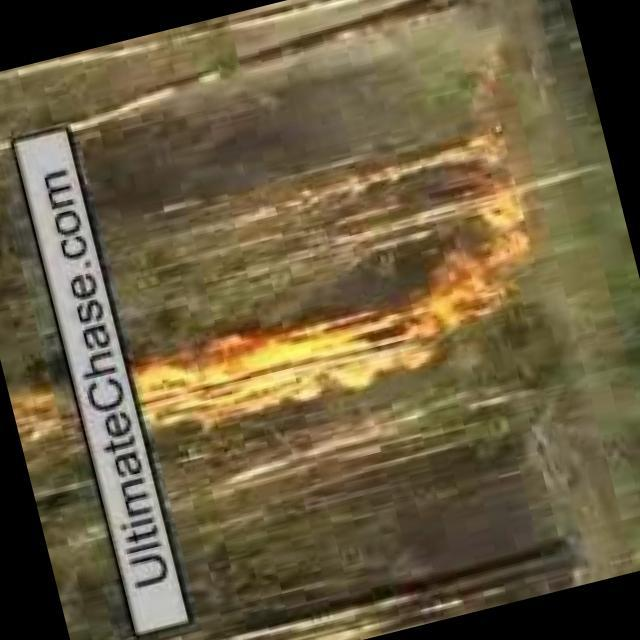Fire: (135, 294, 387, 437), (384, 240, 519, 363)
